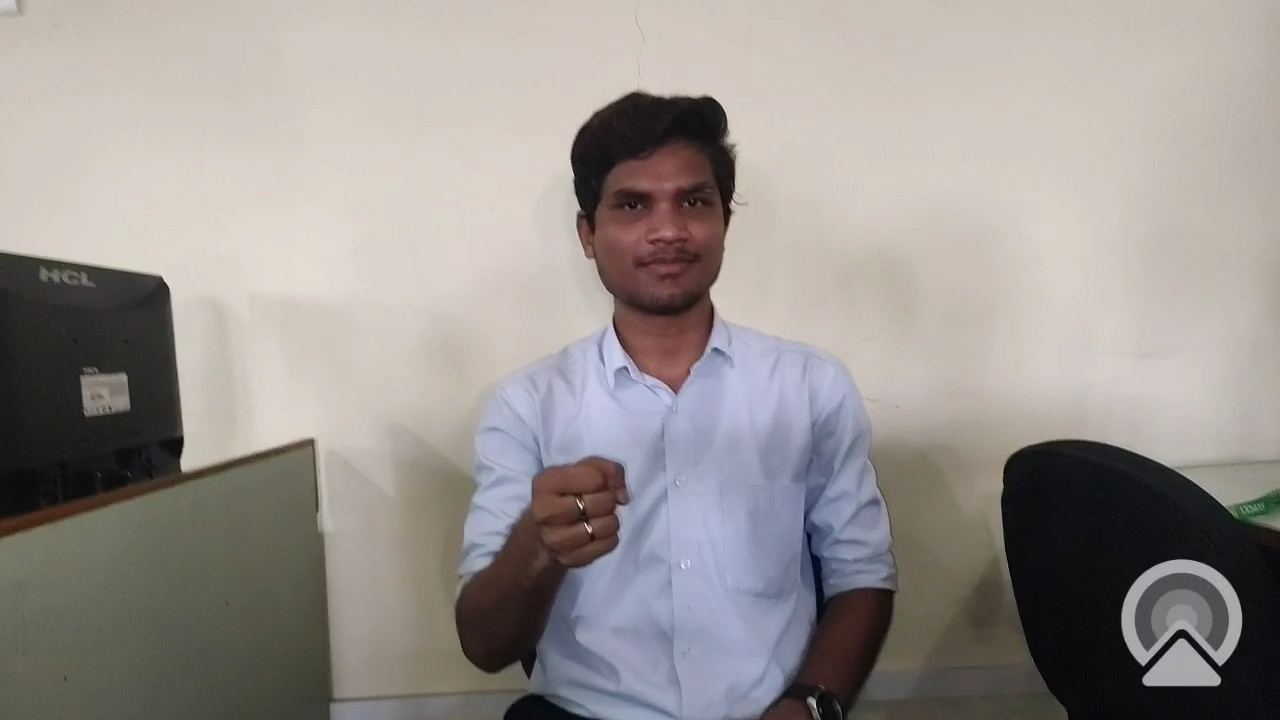Yes: (510, 427, 658, 606)
